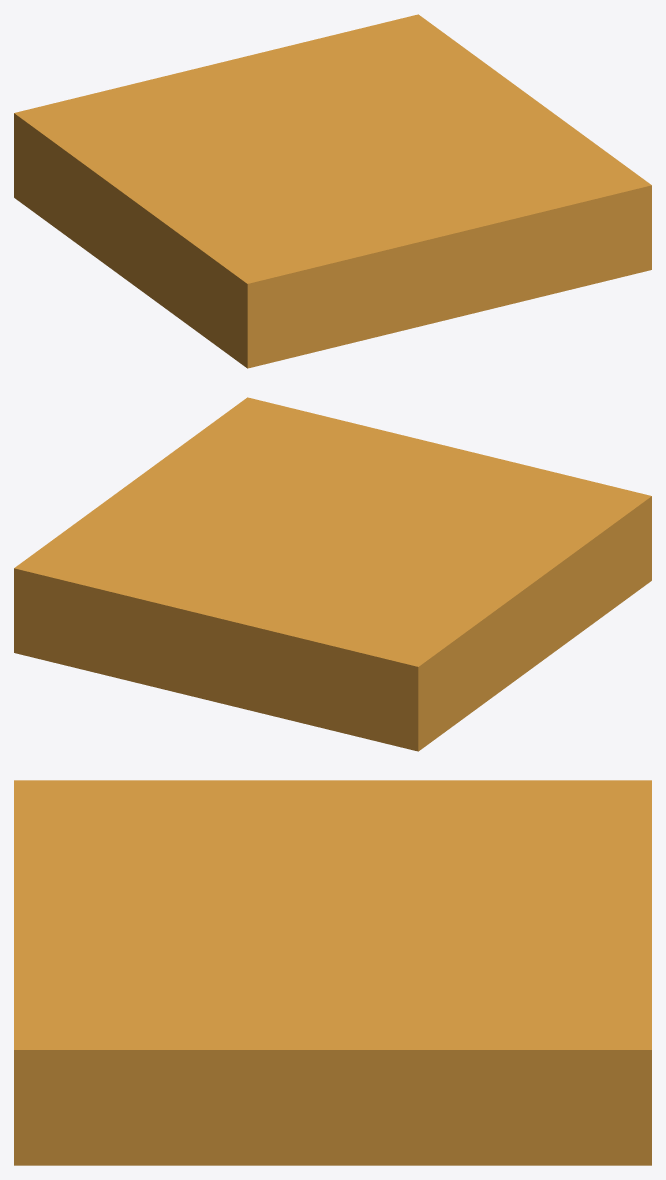
The model's file is tile-runway-straight.glb.
3 renders of one model, top to bottom at view 1: azimuth 30°, elevation 25°; view 2: azimuth 150°, elevation 25°; view 3: azimuth 270°, elevation 25°, orthographic. The views are drawn at different scales.
Visible parts, largest first — view 1: tile-runway-straight; view 2: tile-runway-straight; view 3: tile-runway-straight.
Part boxes in pixels (x1=…): tile-runway-straight: x1=14, y1=14, x2=651, y2=368; tile-runway-straight: x1=14, y1=397, x2=651, y2=751; tile-runway-straight: x1=14, y1=780, x2=651, y2=1165.
Bounding box in the file's own units: 30 × 6 × 30.
